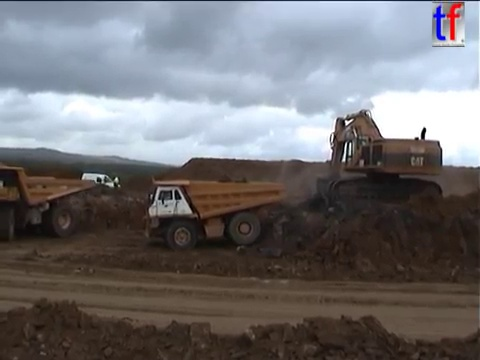excavator: (313, 107, 446, 210)
truck: (140, 175, 288, 252), (1, 162, 97, 241)
worker: (110, 173, 120, 196)
